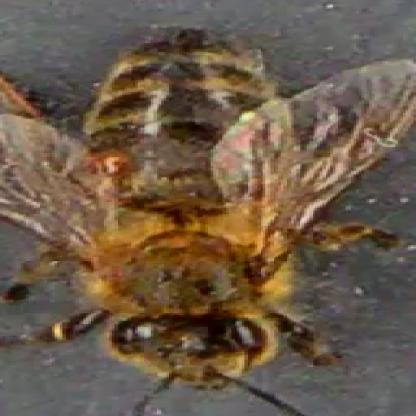bee: (54, 25, 344, 390)
